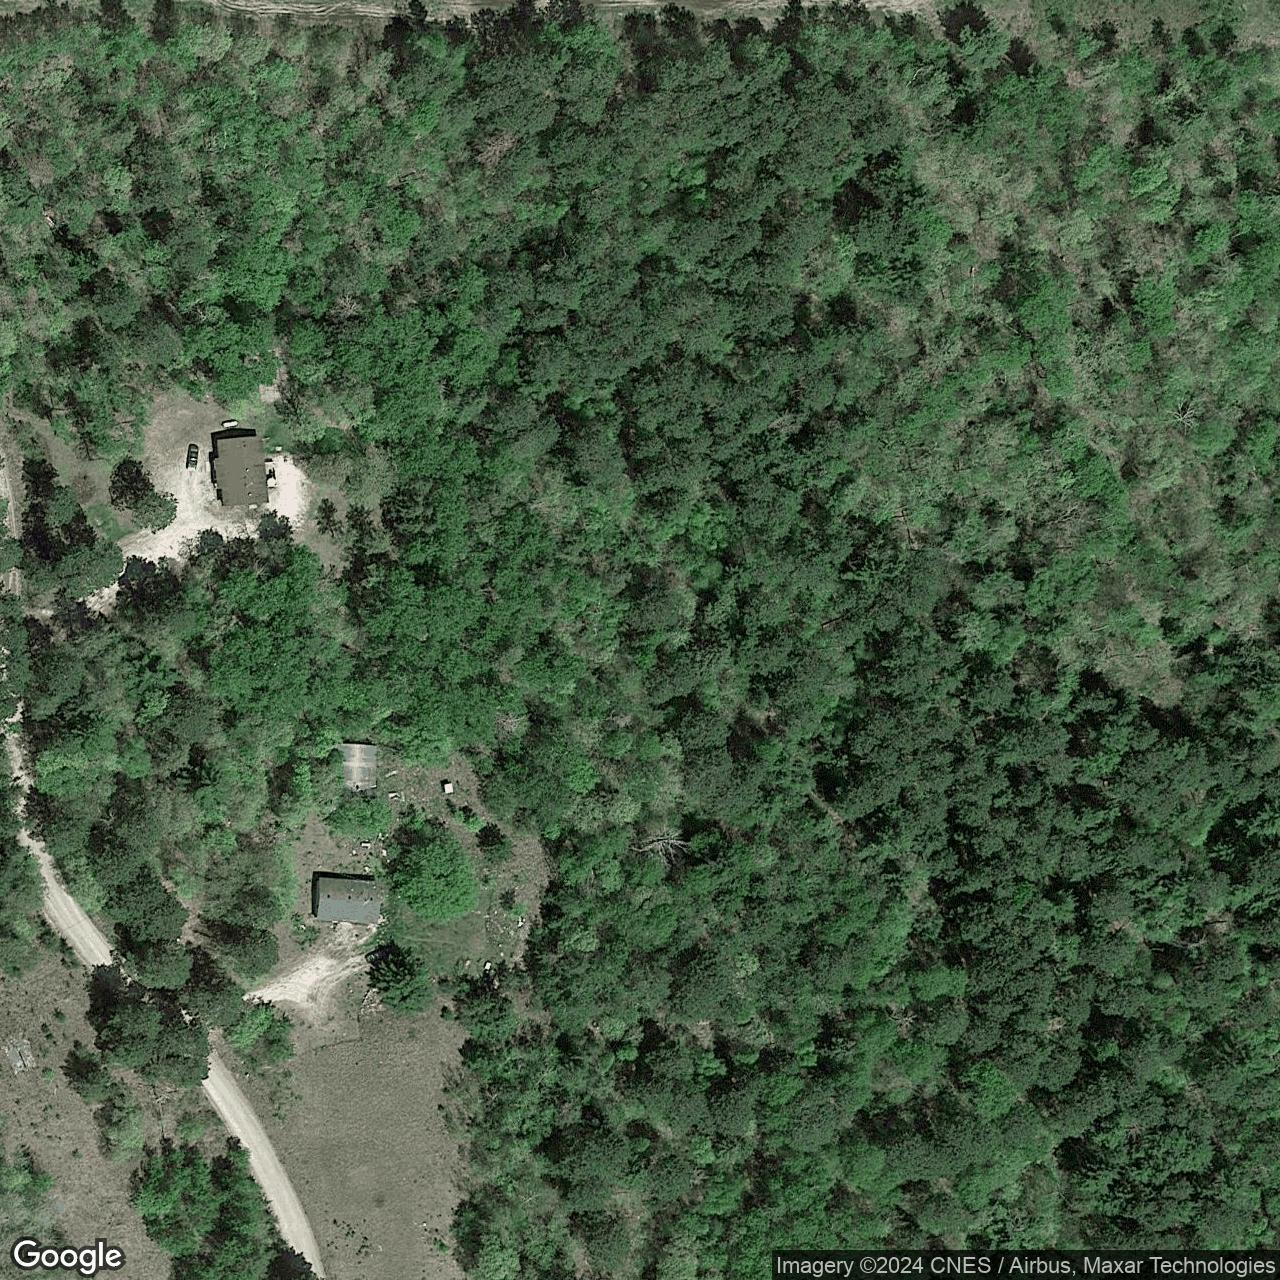Garage: (336, 742, 379, 792)
House: (213, 435, 271, 506), (311, 877, 383, 926)
Propane: (220, 417, 239, 429)
